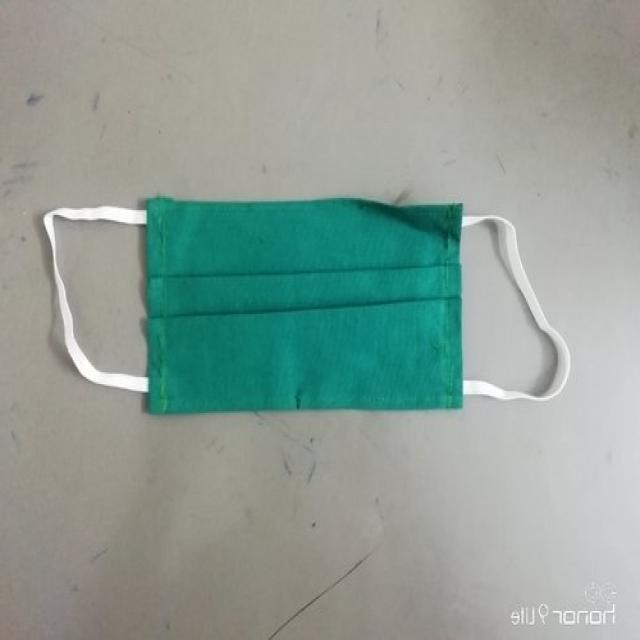face mask: (43, 193, 571, 413)
